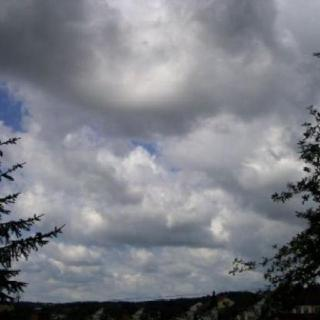Cumulus: (0, 0, 298, 263)
